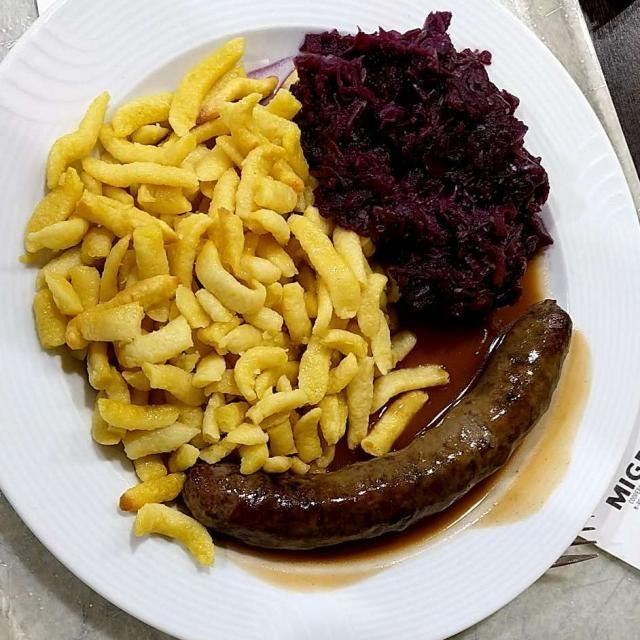cabbage: (299, 23, 547, 321)
sauce: (191, 275, 594, 583)
sausage: (188, 296, 578, 557)
spaetzle: (30, 45, 447, 571)
